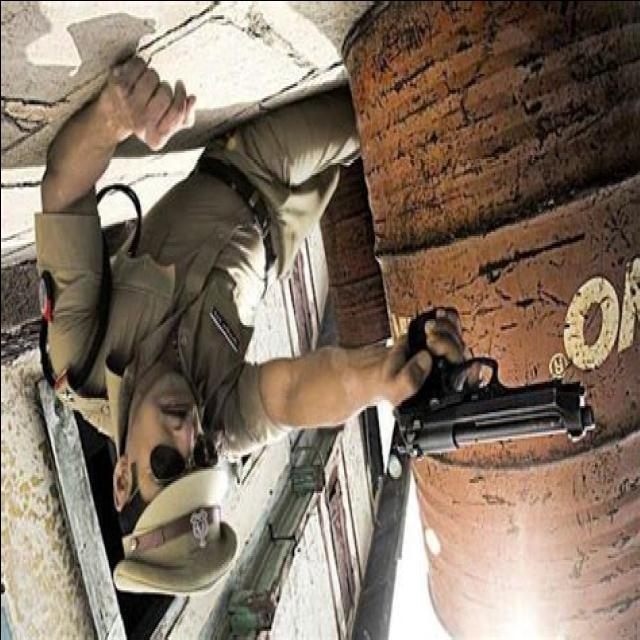weapons: (374, 294, 604, 470)
